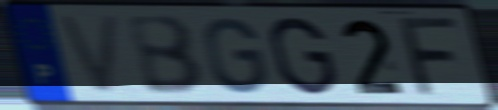2: (340, 16, 406, 97)
B: (123, 13, 208, 98)
F: (397, 15, 464, 99)
G: (266, 14, 340, 98), (202, 15, 270, 97)
V: (53, 12, 123, 98)
